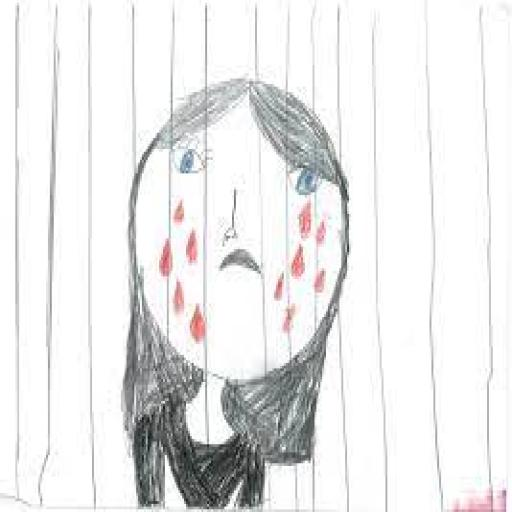person: (119, 74, 352, 510)
